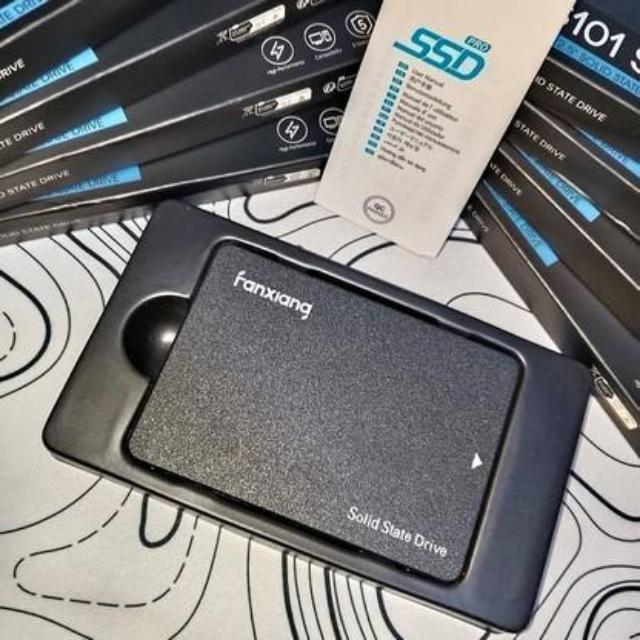DISK: (118, 231, 524, 594)
